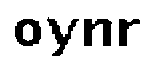n: (81, 15, 114, 53)
o: (12, 17, 43, 51)
r: (116, 16, 144, 51)
y: (45, 16, 78, 60)
